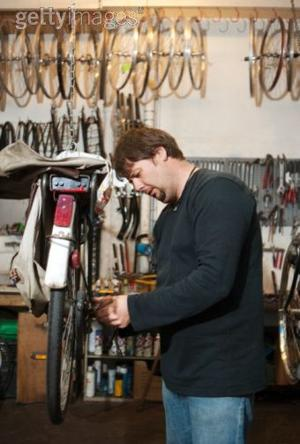person: (94, 125, 270, 444)
